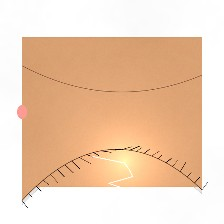foreign_body_visible: (119, 114, 149, 137)
